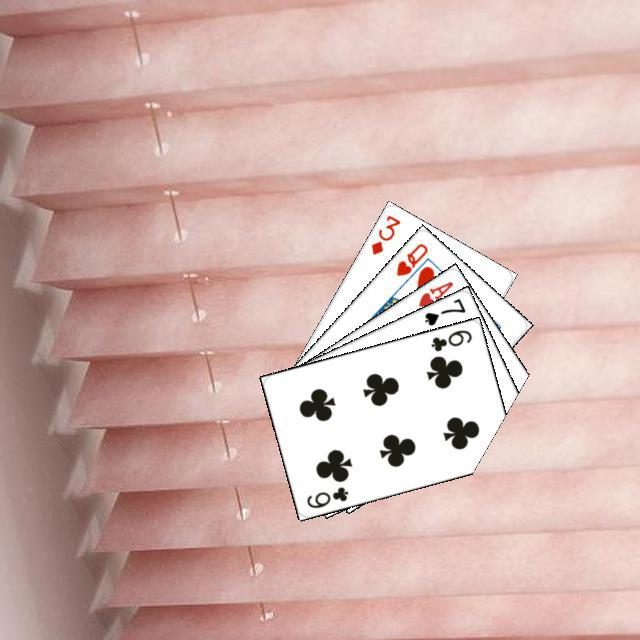3d: (366, 210, 402, 257)
6c: (301, 482, 350, 510), (426, 325, 473, 353)
7s: (420, 293, 467, 328)
Ah: (413, 276, 455, 309)
Qh: (391, 238, 429, 278)
